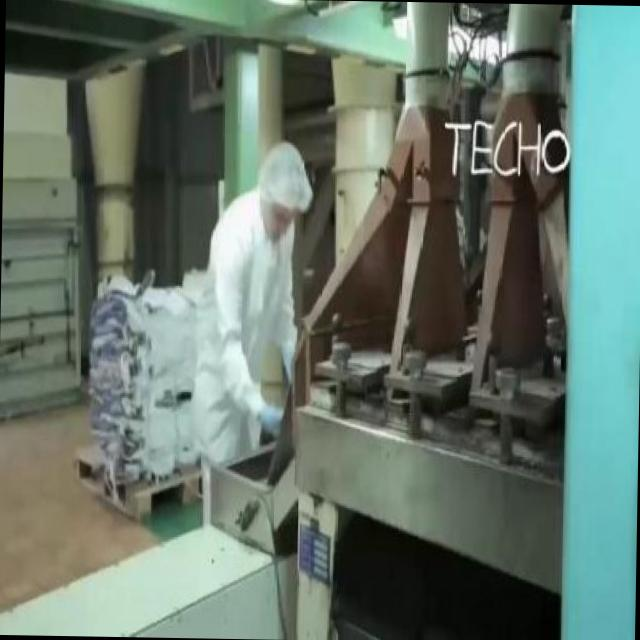hairnet: (259, 140, 314, 207)
